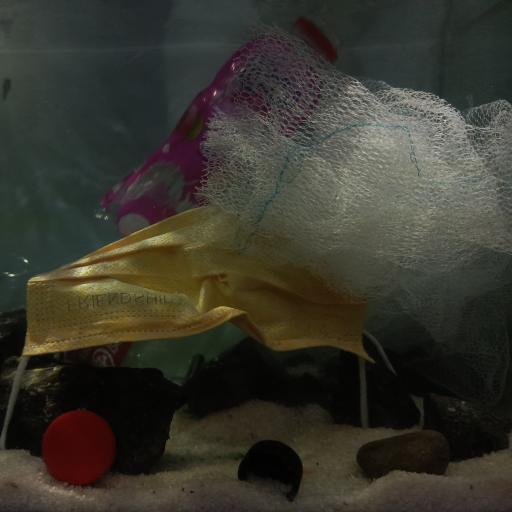bottle_cap: (43, 410, 116, 484), (238, 438, 303, 502)
mask: (21, 206, 380, 381)
net: (198, 20, 512, 412)
plastic_bottle: (100, 21, 348, 236), (6, 256, 208, 380)
